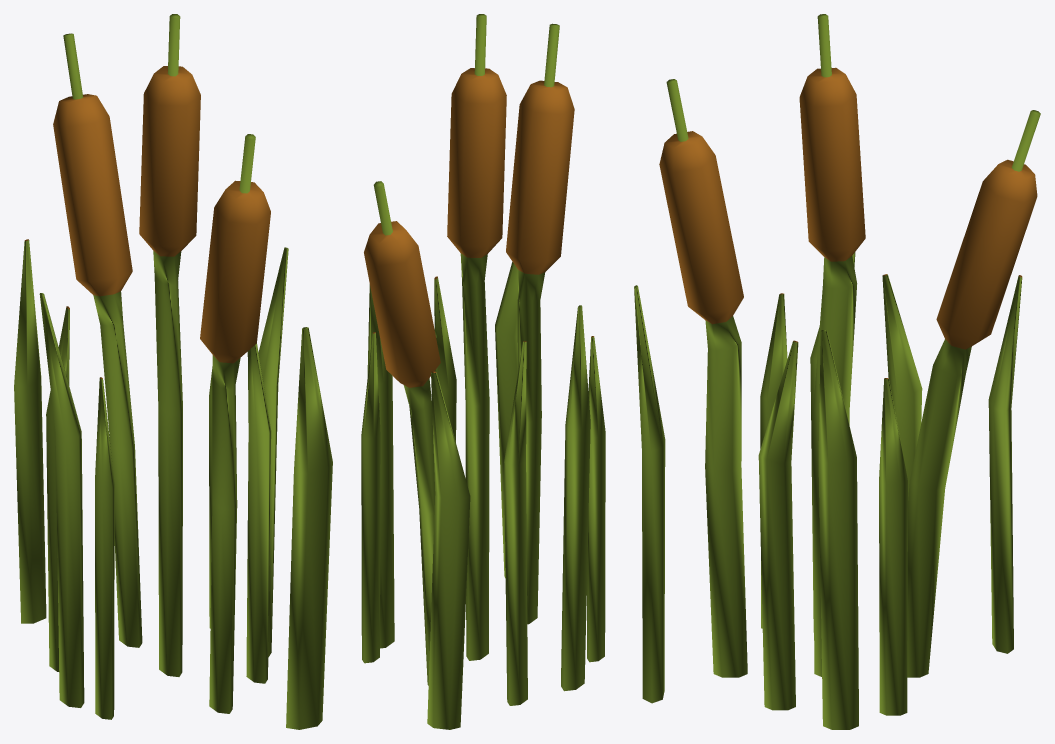
File: GrassGroup.glb
3 views of the same model, side by side, from view 1: azimuth 30°, elevation 25°; view 2: azimuth 150°, elevation 25°; view 3: azimuth 270°, elevation 25° (orthographic). The views are drawn at different scales.
Visible parts, largest first — view 1: GrassGroup; view 2: GrassGroup; view 3: GrassGroup.
Part boxes in pixels (x1,y1,x2,y2): GrassGroup: (14, 14, 332, 729); GrassGroup: (361, 14, 605, 729); GrassGroup: (634, 14, 1040, 729).
Size of the model in its own units: 1.2 by 3.27 by 1.82.
